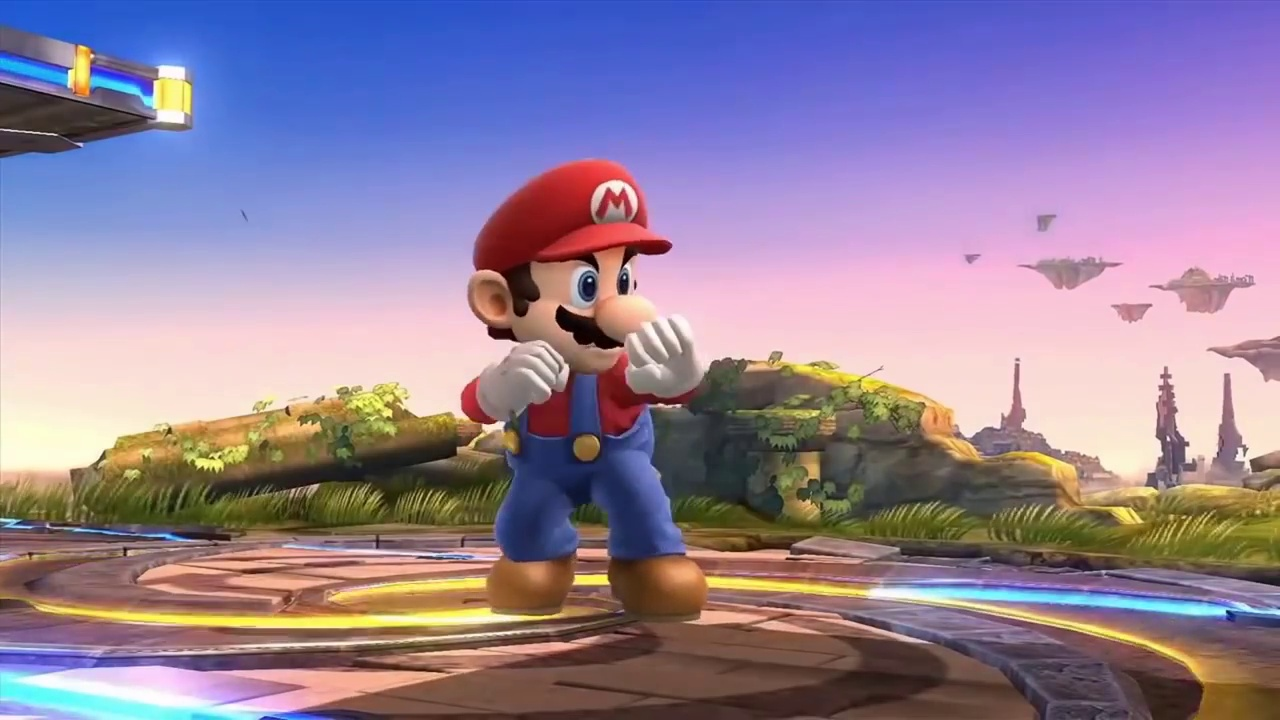Mario: (468, 160, 707, 622)
